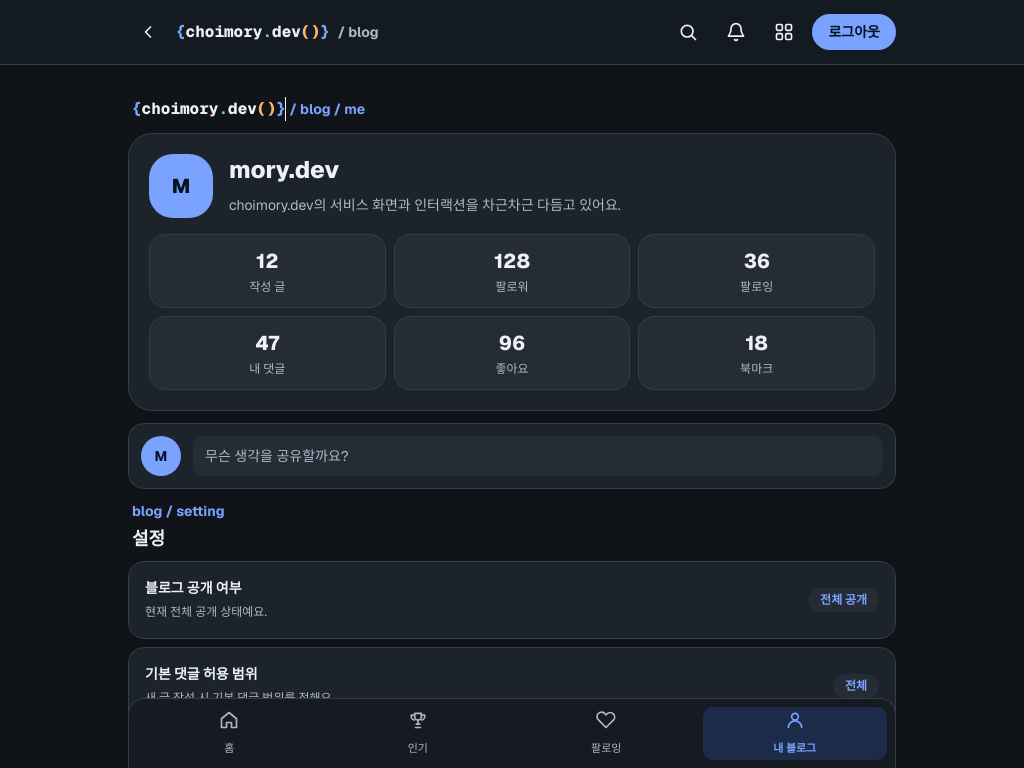
Test: BlogMeSettingsView › 글 작성 행을 누르면 글작성 모달이 열리고 닫기로 닫힌다
The width and height of the screenshot is (1024, 768).
# 글 작성 행을 눌러 글작성 모달을 연다
Click the button "무슨 생각을 공유할까요?": (277, 456) [193,436,883,476]
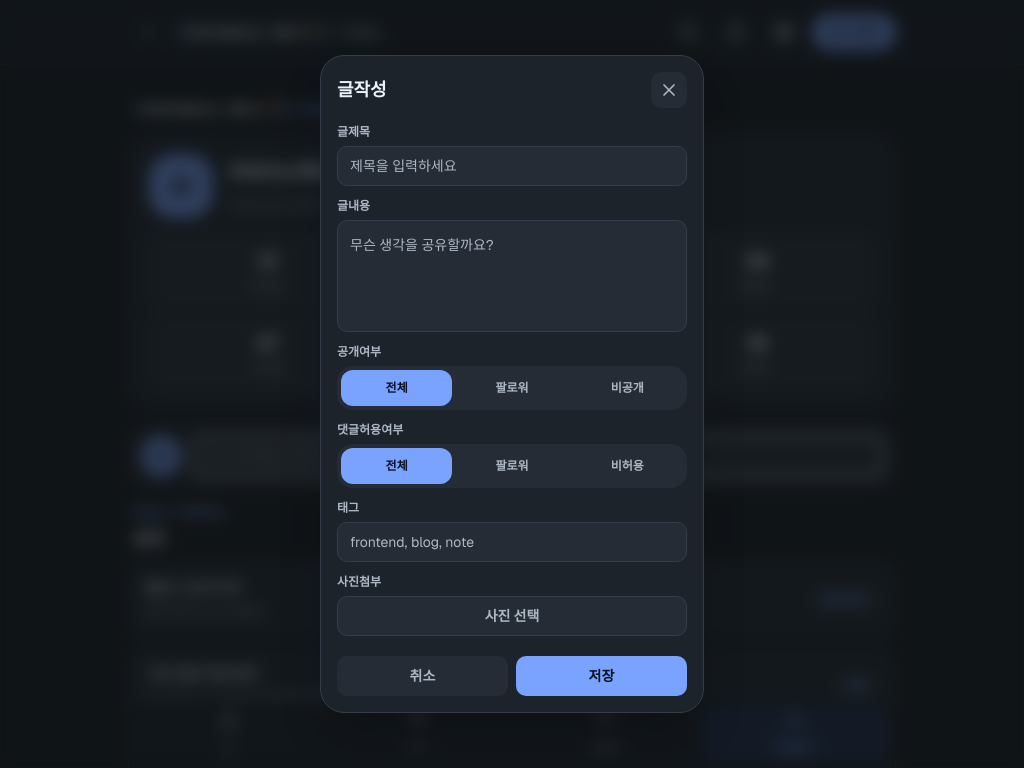
# 닫기 버튼으로 모달을 닫는다
Click the button named "닫기": (669, 90) [651,72,687,108]
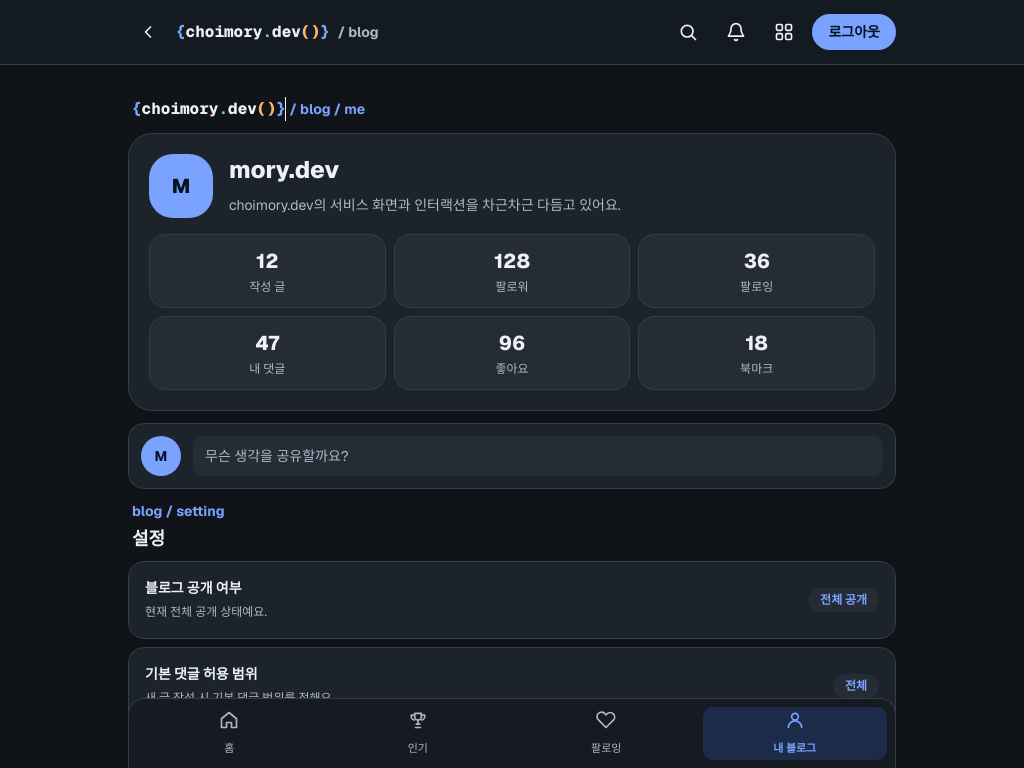
Result: the dialog is gone
